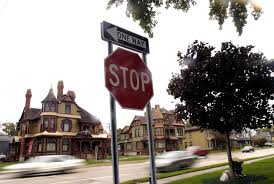oneWay: (100, 18, 152, 56)
stop: (103, 46, 154, 111)
